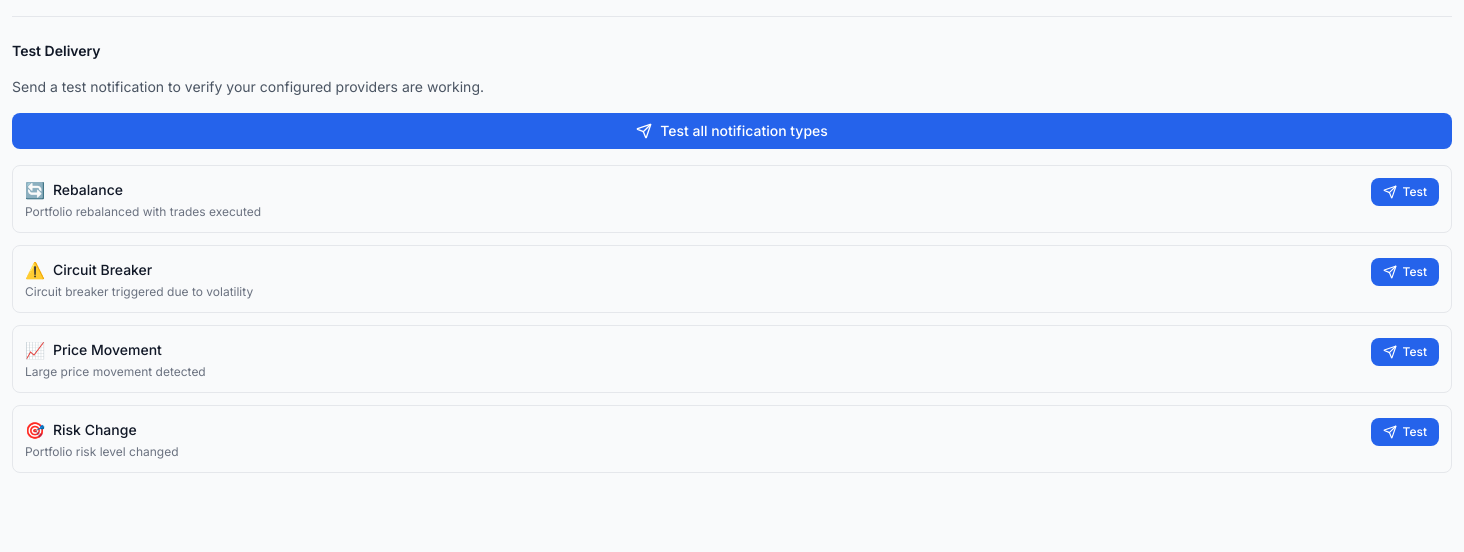
it: NotificationTest › shows a top-level error banner when test-all fails entirely
Click the button "Test all notification types".
click(732, 131)  # box 12,113 -> 1452,149
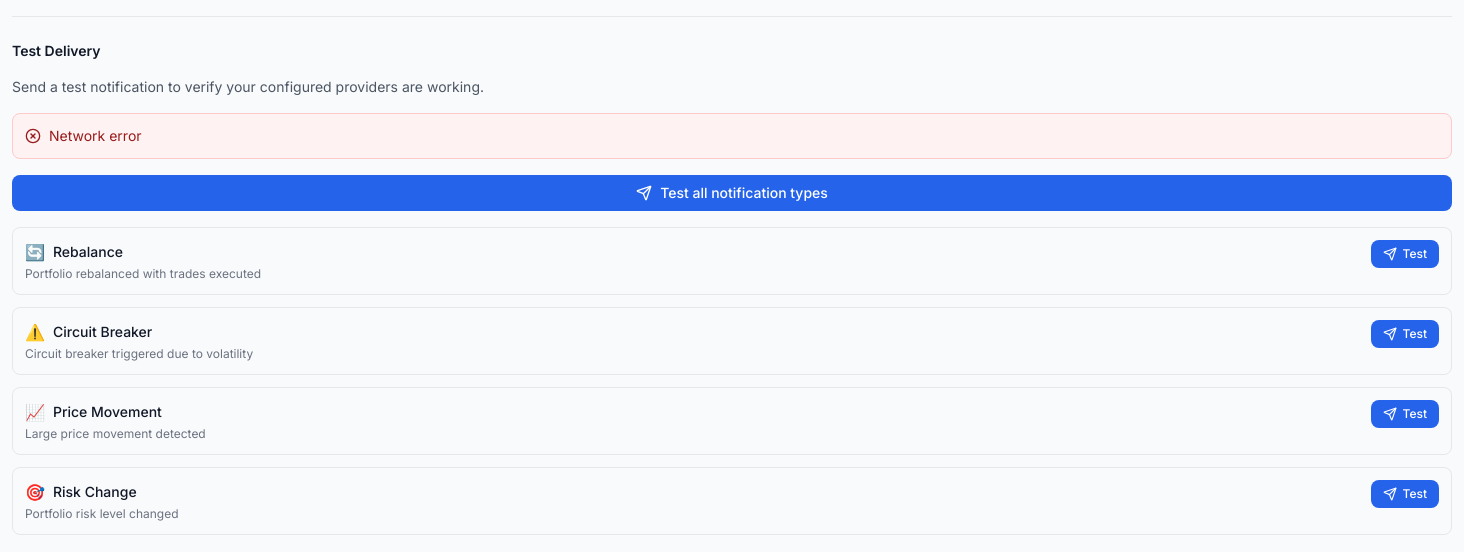
Check: the message "Network error" is shown, box 12,113 -> 1452,159
Check: the text "Network error" is shown, box 49,126 -> 142,146
